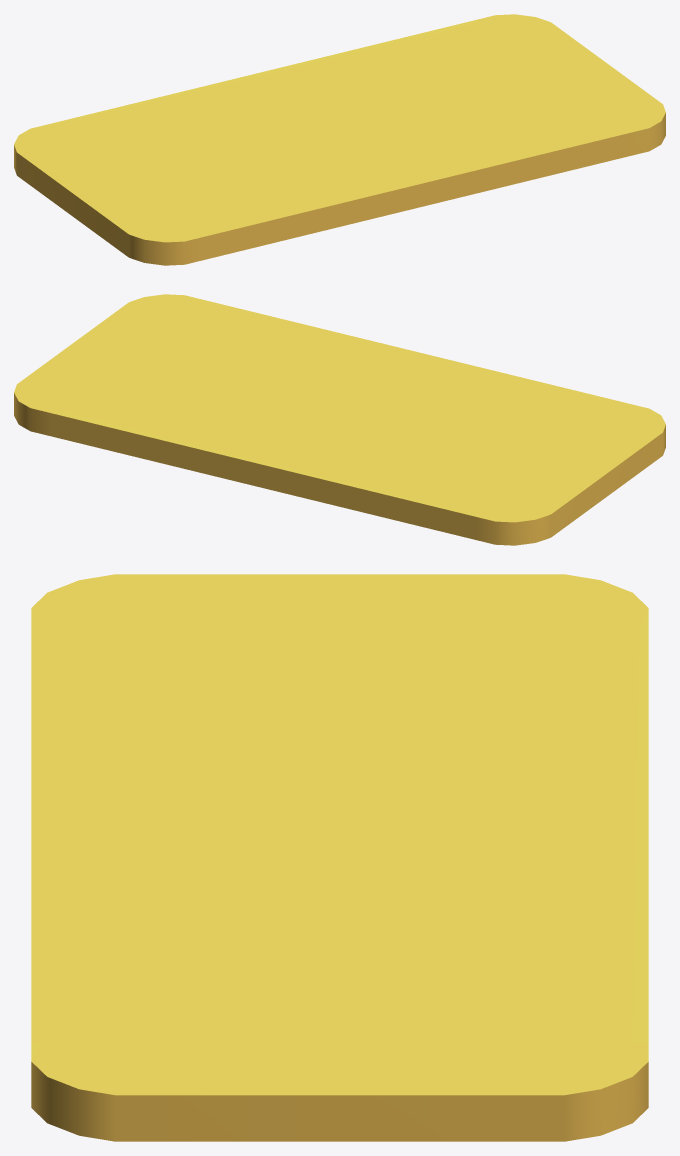
The model's file is table5.fbx.
3 renders of one model, top to bottom at view 1: azimuth 30°, elevation 25°; view 2: azimuth 150°, elevation 25°; view 3: azimuth 270°, elevation 25°, orthographic. The views are drawn at different scales.
Visible parts, largest first — view 1: table4, table1, table3; view 2: table4, table1, table3; view 3: table4, table3, table1.
Part boxes in pixels (x1,y1,x2,y2): table4: (50, 20, 629, 259); table1: (14, 124, 203, 265); table3: (476, 14, 665, 155); table4: (50, 300, 629, 539); table1: (476, 404, 665, 545); table3: (14, 294, 203, 435); table4: (31, 627, 648, 1042); table3: (31, 1042, 648, 1141); table1: (31, 574, 648, 626).
Size of the model in its own units: 13.38 by 0.5561 by 6.7.
